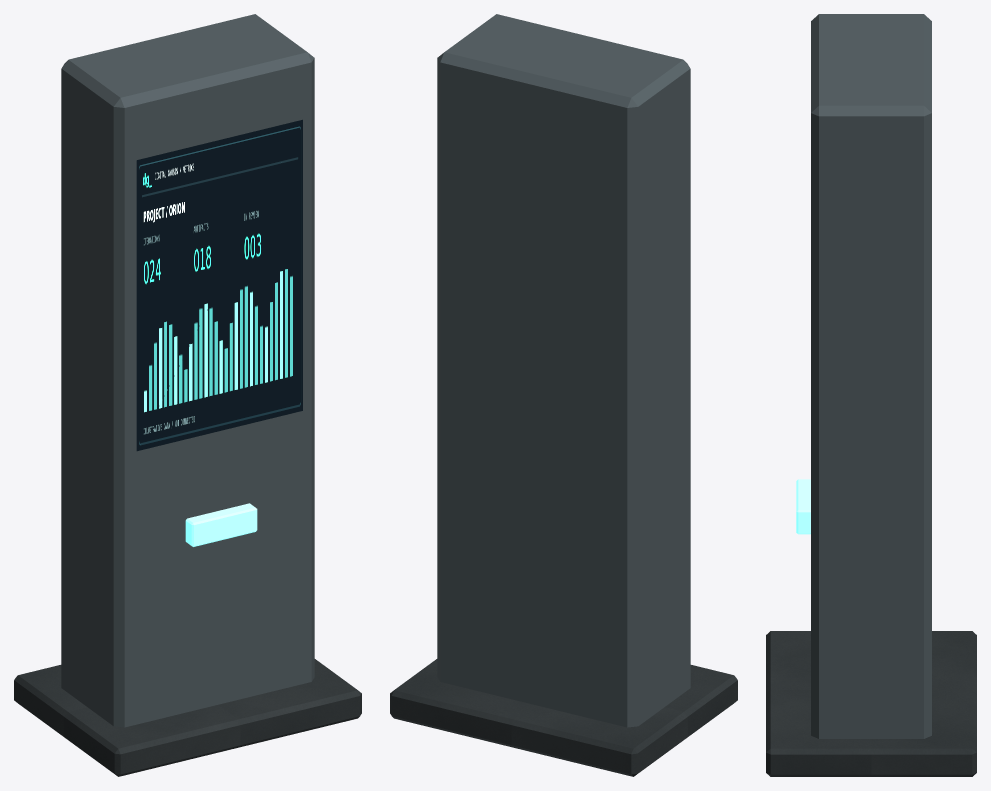
Rendered from Kiosk.glb.
The picture shows the model from 3 angles, left to right: view 1: azimuth 30°, elevation 25°; view 2: azimuth 150°, elevation 25°; view 3: azimuth 270°, elevation 25°; orthographic projection.
Parts seen in each view (by area): view 1: Kiosk__BlackenedSteel__mesh, Kiosk__Screen_metrics__screen_kiosk, Kiosk__Powdercoat__mesh, Kiosk__DGGreen__mesh; view 2: Kiosk__BlackenedSteel__mesh, Kiosk__Powdercoat__mesh; view 3: Kiosk__BlackenedSteel__mesh, Kiosk__Powdercoat__mesh, Kiosk__DGGreen__mesh.
Part boxes in pixels (x1,y1,x2,y2): Kiosk__BlackenedSteel__mesh: (61,14,314,727); Kiosk__Screen_metrics__screen_kiosk: (136,119,302,451); Kiosk__Powdercoat__mesh: (14,659,361,776); Kiosk__DGGreen__mesh: (185,503,257,546); Kiosk__BlackenedSteel__mesh: (437,14,690,727); Kiosk__Powdercoat__mesh: (390,659,737,776); Kiosk__BlackenedSteel__mesh: (811,14,931,738); Kiosk__Powdercoat__mesh: (766,631,976,776); Kiosk__DGGreen__mesh: (796,479,810,534).
Bounding box in the file's own units: 0.64 × 1.62 × 0.47.
Materials: 4 (2 with a texture image).
